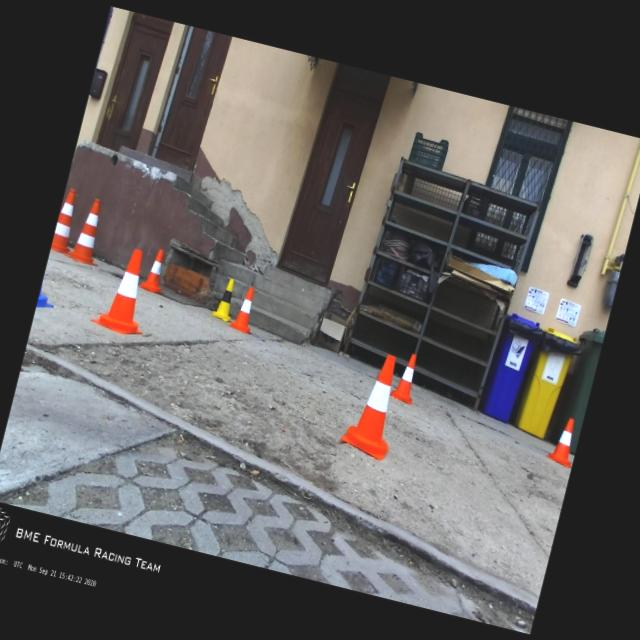large_orange_cone: (64, 194, 114, 267), (50, 187, 84, 254)
orange_cone: (338, 347, 410, 461), (90, 243, 162, 337), (544, 415, 582, 467), (388, 350, 422, 404), (228, 284, 262, 334), (137, 246, 171, 294)
yellow_cone: (211, 276, 240, 322)
